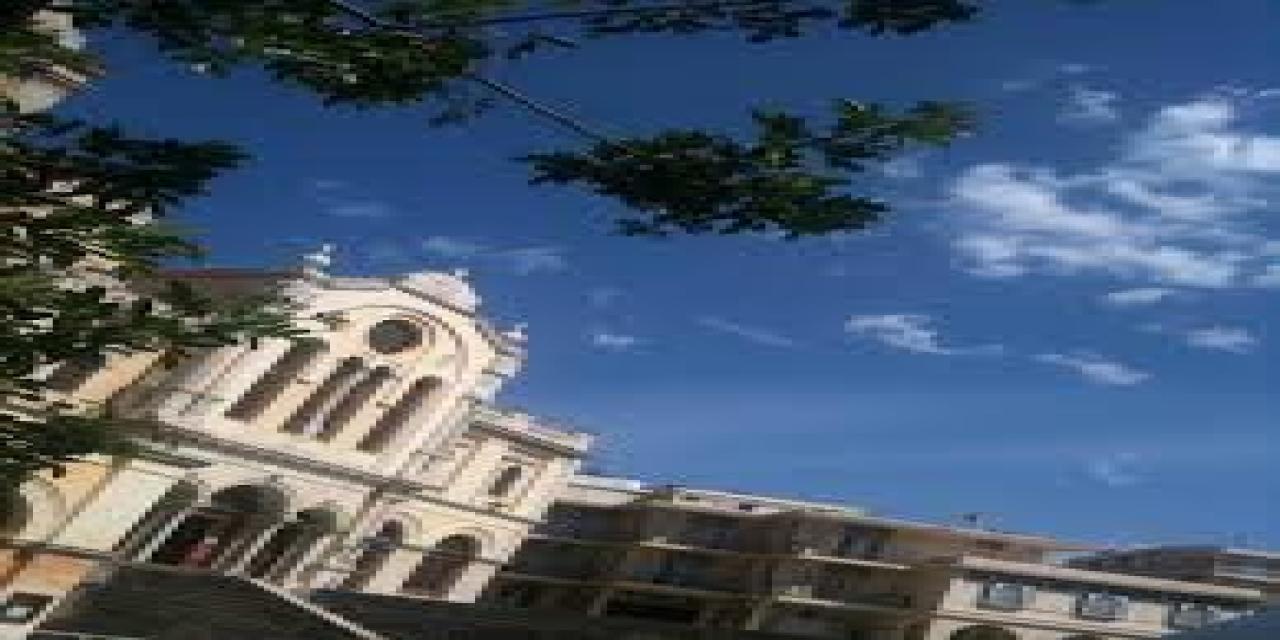Agios Minas: (6, 258, 601, 638)
